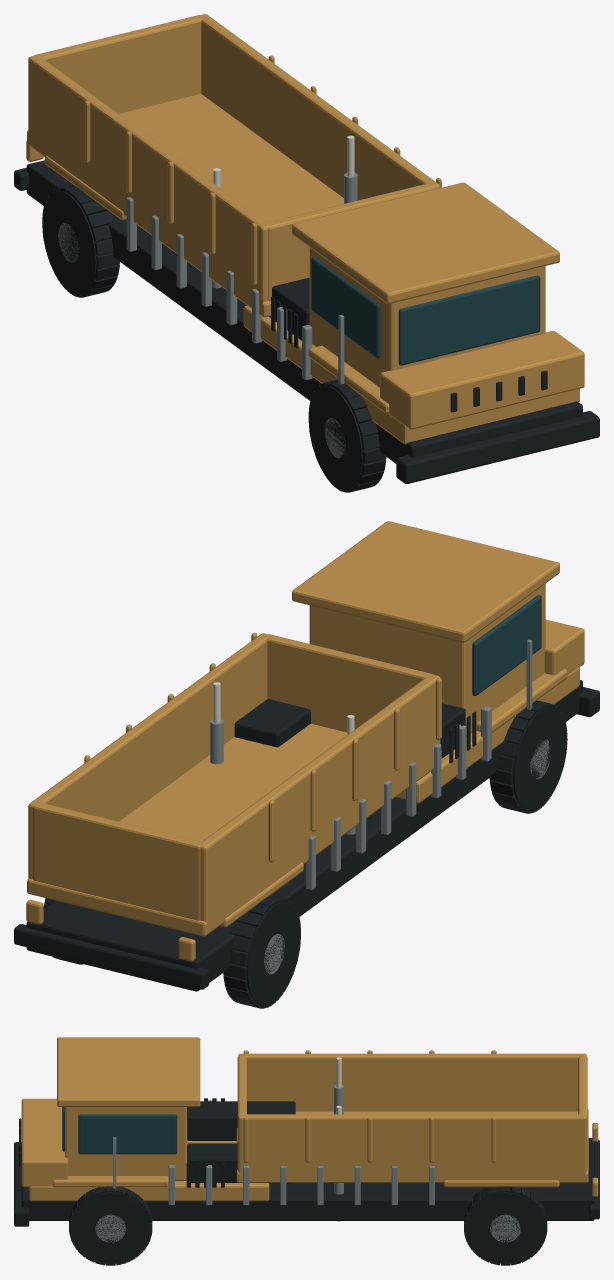
File: hauler-close.glb
3 views of the same model, one above another, from view 1: azimuth 30°, elevation 25°; view 2: azimuth 150°, elevation 25°; view 3: azimuth 270°, elevation 25° (orthographic). The views are drawn at different scales.
Visible parts, largest first — view 1: hauler_surfaces, DumpBed_surfaces, Wheel_-1_0_surfaces, Wheel_-1_1_surfaces; view 2: DumpBed_surfaces, hauler_surfaces, Wheel_-1_0_surfaces, Wheel_-1_1_surfaces; view 3: hauler_surfaces, DumpBed_surfaces, Wheel_1_0_surfaces, Wheel_1_1_surfaces.
Boxes of the visible parts, box(x1,y1,x2,y2) form: hauler_surfaces: box(14, 55, 599, 483); DumpBed_surfaces: box(27, 14, 440, 317); Wheel_-1_0_surfaces: box(42, 184, 119, 297); Wheel_-1_1_surfaces: box(308, 379, 386, 492); DumpBed_surfaces: box(27, 633, 441, 936); hauler_surfaces: box(14, 521, 599, 991); Wheel_-1_0_surfaces: box(223, 895, 300, 1008); Wheel_-1_1_surfaces: box(489, 700, 567, 813); hauler_surfaces: box(14, 1037, 599, 1226); DumpBed_surfaces: box(236, 1053, 588, 1182); Wheel_1_0_surfaces: box(464, 1186, 547, 1265); Wheel_1_1_surfaces: box(69, 1186, 152, 1265).
Size of the model in its own units: 2.27 by 2.3 by 7.57.
